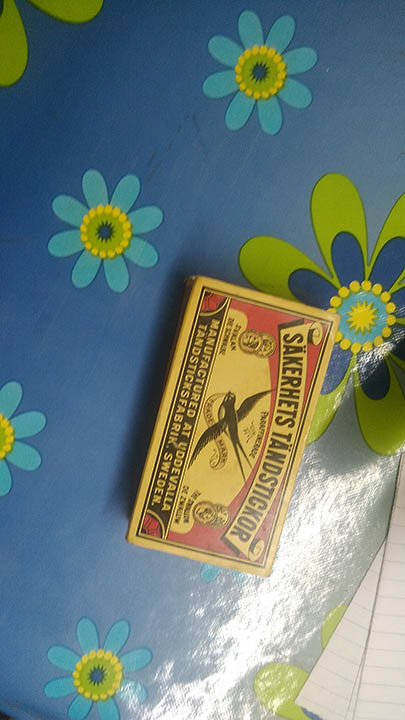match-sticks .90$: (134, 260, 306, 575)
